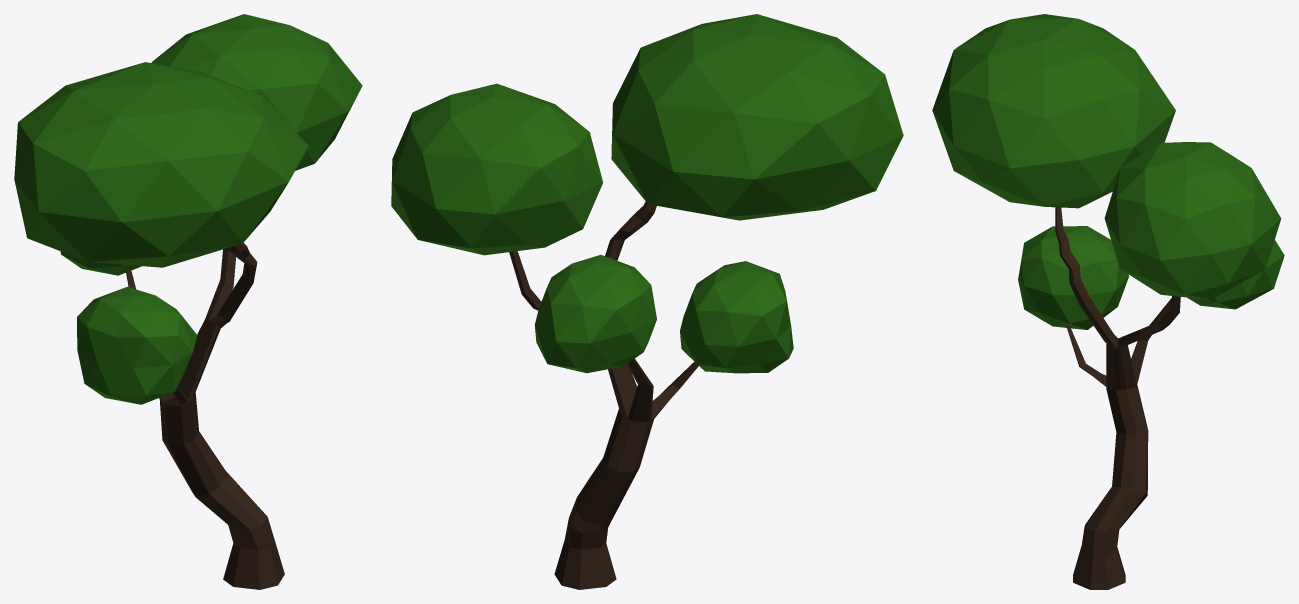
Rendered from arvore04 (1).fbx.
3 renders of one model, left to right at view 1: azimuth 30°, elevation 25°; view 2: azimuth 150°, elevation 25°; view 3: azimuth 270°, elevation 25°, orthographic. The views are drawn at different scales.
Visible parts, largest first — view 1: folha03, folha02, tronco, folha04, folha01; view 2: folha03, folha02, tronco, folha01, folha04; view 3: folha03, folha02, tronco, folha04, folha01.
Boxes of the visible parts, box(x1,y1,x2,y2) form: folha03: box(14, 62, 308, 267); folha02: box(151, 14, 362, 170); tronco: box(126, 243, 284, 589); folha04: box(77, 286, 197, 404); folha01: box(60, 251, 141, 275); folha03: box(611, 14, 903, 220); folha02: box(391, 83, 603, 255); tronco: box(509, 201, 698, 589); folha01: box(535, 254, 656, 373); folha04: box(680, 261, 793, 373); folha03: box(932, 14, 1175, 208); folha02: box(1104, 142, 1281, 299); tronco: box(1055, 207, 1180, 589); folha04: box(1018, 226, 1128, 329); folha01: box(1187, 240, 1284, 309).
Bounding box in the file's own units: 941 × 1202 × 795.
